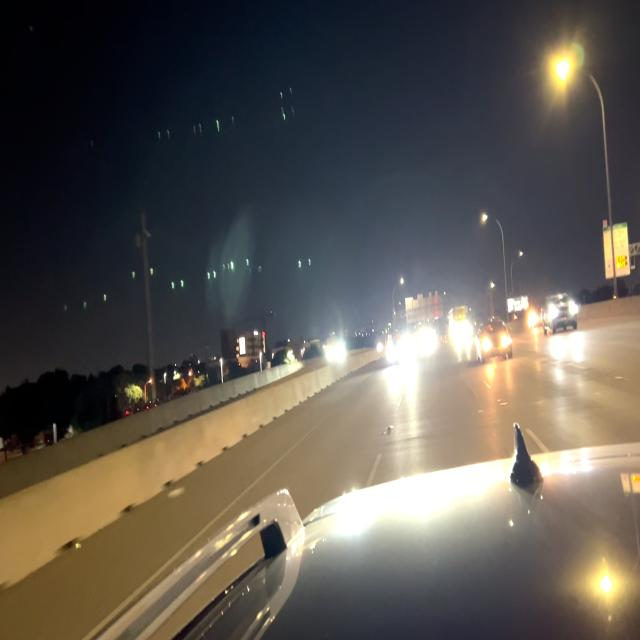back-of-sign: (405, 289, 446, 324)
